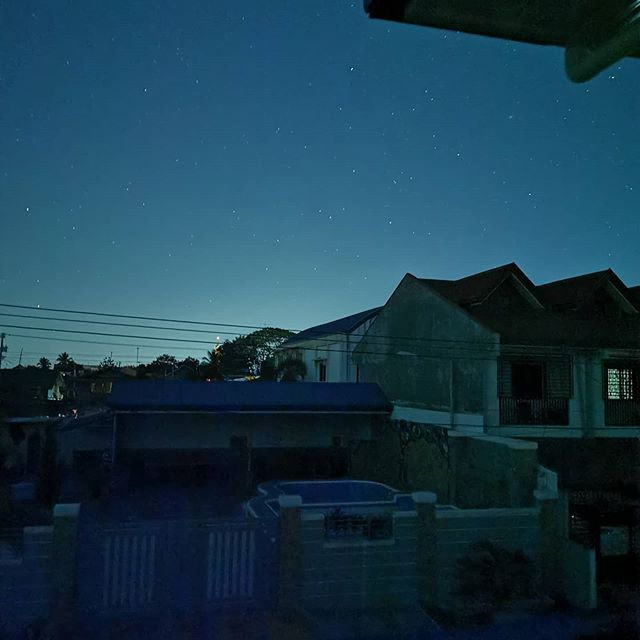building: (1, 384, 382, 640), (362, 273, 640, 531)
gate: (61, 511, 284, 623)
sky: (7, 1, 640, 341)
